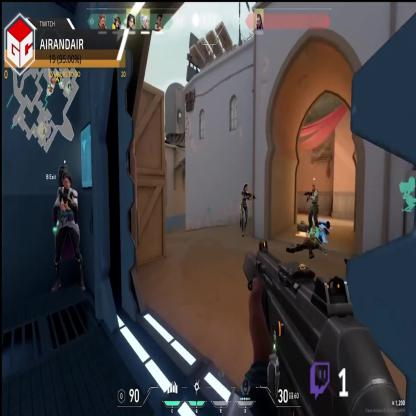enemy: (238, 183, 250, 236)
enemy_head: (244, 183, 249, 192)
